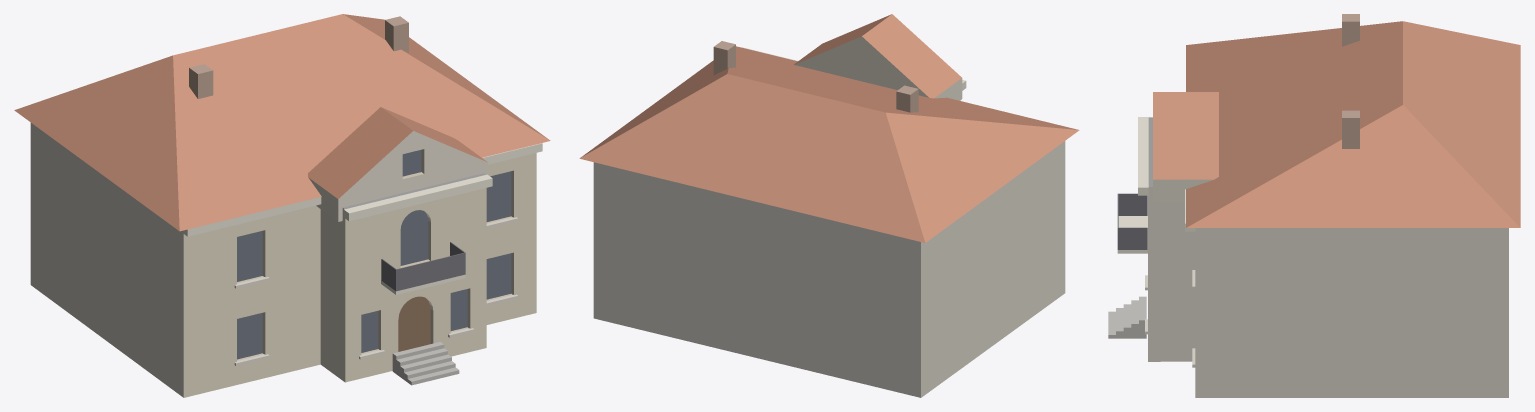
3 views of the same model, side by side, from view 1: azimuth 30°, elevation 25°; view 2: azimuth 150°, elevation 25°; view 3: azimuth 270°, elevation 25° (orthographic). The views are drawn at different scales.
Parts seen in each view (by area): view 1: CP_930_Masonry, CP_930_Roof, CP_930_Dormer_gable, CP_930_Cornice_main_eave_0, CP_930_Balcony_0_rail_f, CP_930_Cornice_left_l_eave_0, CP_930_Chimney_0, CP_930_Chimney_1, CP_930_Cornice_right_r_eave_0, CP_930_Step_0_4; view 2: CP_930_Masonry, CP_930_Roof, CP_930_Dormer_gable, CP_930_Chimney_1, CP_930_Chimney_0; view 3: CP_930_Roof, CP_930_Masonry, CP_930_Dormer_gable, CP_930_Cornice_main_eave_0, CP_930_Chimney_1, CP_930_Balcony_0_rail_r, CP_930_Balcony_0_rail_l, CP_930_Chimney_0, CP_930_Balcony_0_slab.
Boxes of the visible parts, box(x1,y1,x2,y2) form: CP_930_Masonry: box(30, 123, 536, 397); CP_930_Roof: box(14, 14, 550, 231); CP_930_Dormer_gable: box(308, 107, 488, 221); CP_930_Cornice_main_eave_0: box(344, 174, 492, 221); CP_930_Balcony_0_rail_f: box(395, 252, 465, 291); CP_930_Cornice_left_l_eave_0: box(182, 197, 321, 236); CP_930_Chimney_0: box(189, 64, 213, 98); CP_930_Chimney_1: box(385, 16, 408, 52); CP_930_Cornice_right_r_eave_0: box(482, 143, 542, 164); CP_930_Step_0_4: box(392, 342, 444, 373); CP_930_Masonry: box(593, 100, 1065, 397); CP_930_Roof: box(579, 46, 1079, 242); CP_930_Dormer_gable: box(794, 14, 962, 100); CP_930_Chimney_1: box(713, 41, 735, 74); CP_930_Chimney_0: box(896, 85, 918, 112); CP_930_Roof: box(1186, 21, 1520, 227); CP_930_Masonry: box(1148, 117, 1508, 397); CP_930_Dormer_gable: box(1153, 92, 1218, 202); CP_930_Cornice_main_eave_0: box(1138, 117, 1148, 195); CP_930_Chimney_1: box(1342, 110, 1359, 148); CP_930_Balcony_0_rail_r: box(1118, 227, 1147, 249); CP_930_Balcony_0_rail_l: box(1118, 193, 1147, 215); CP_930_Chimney_0: box(1342, 14, 1359, 46); CP_930_Balcony_0_slab: box(1117, 216, 1147, 253).
Bounding box in the file's own units: 17.06 × 11 × 16.24.
